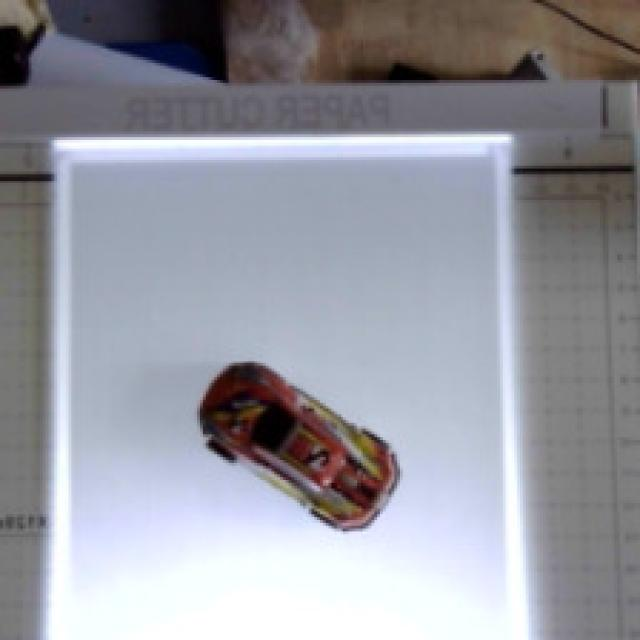Red Car: (172, 276, 462, 594)
